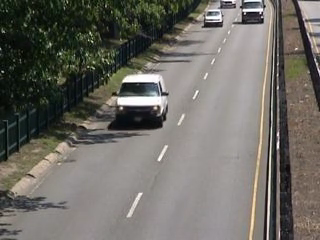car: (203, 10, 225, 31), (218, 1, 239, 10)
truck: (111, 73, 172, 124), (241, 2, 266, 26)
